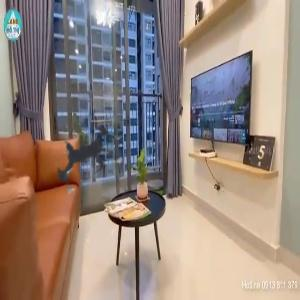drone: (27, 93, 151, 217)
